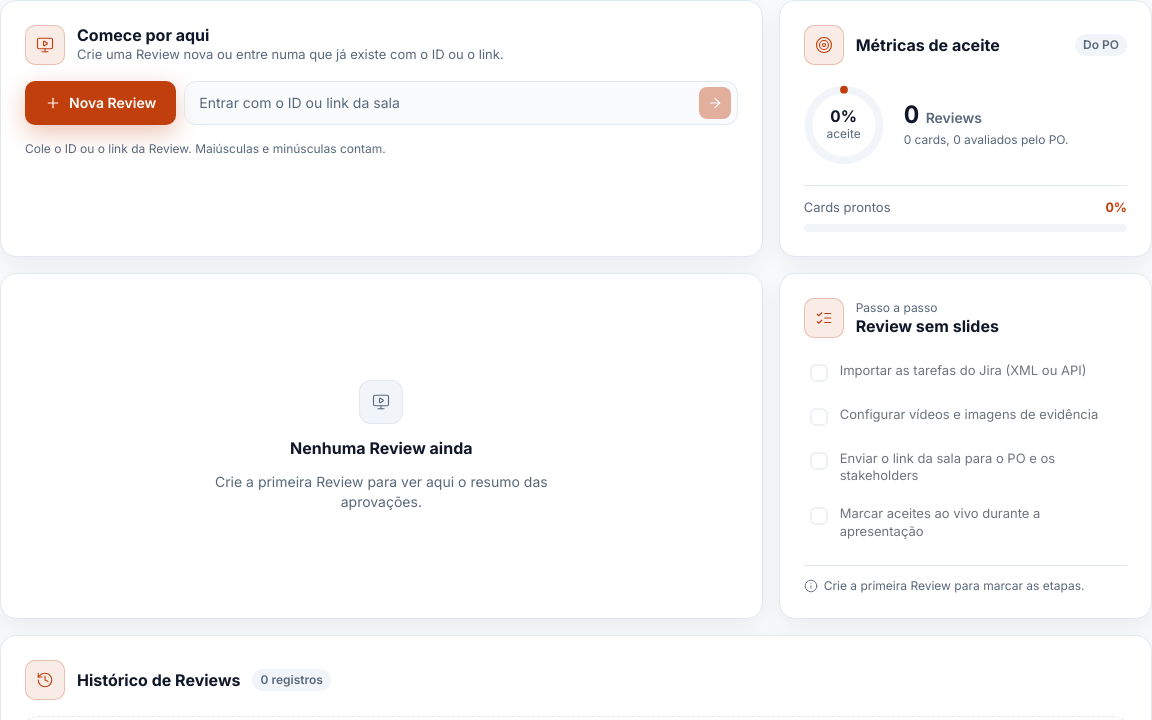
Test: hub da Review › colar o link reconhece o ID
Type "https://x.com/showcase/AbC123?setup=1" into the field labelled "ID ou link da sala". click: (449, 103)
box: 199,93 -> 699,113
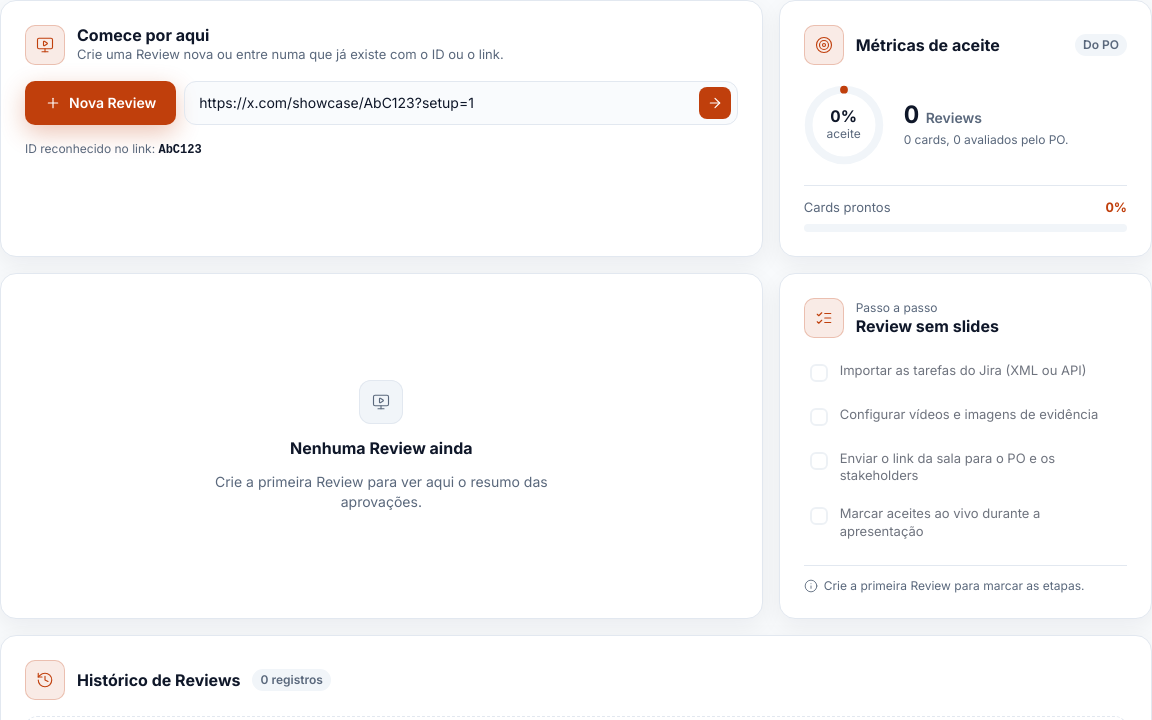
Now the text "AbC123" is shown, box 158,143 -> 202,157
